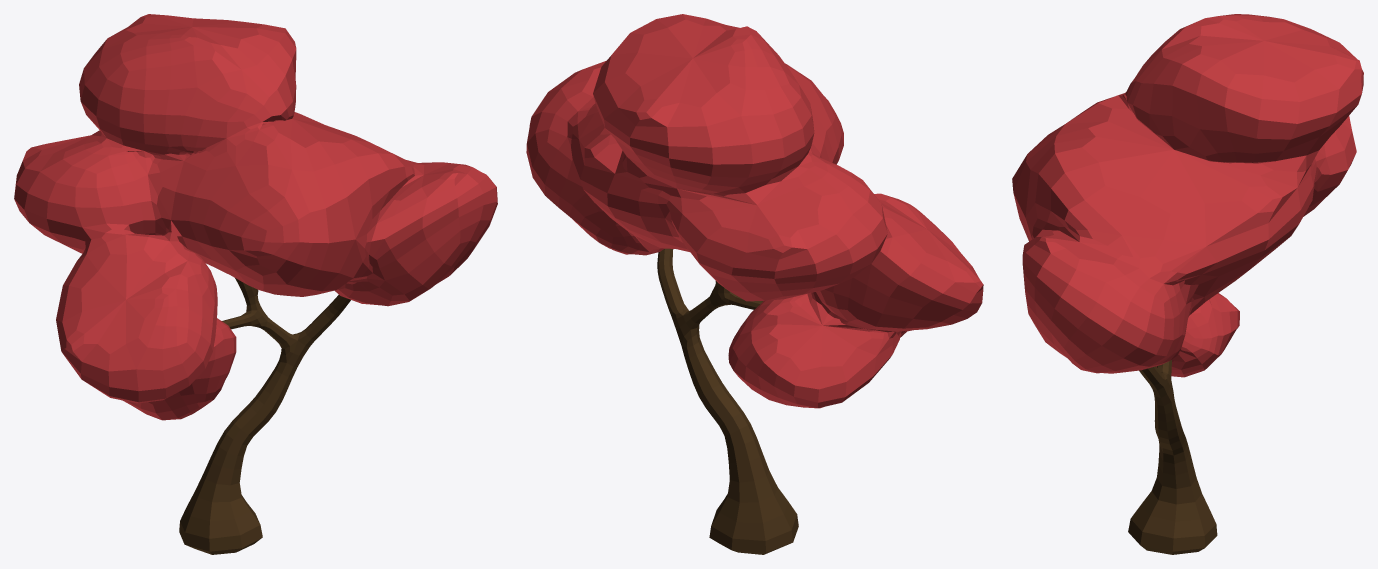
File: CheeryTree.fbx
3 views of the same model, side by side, from view 1: azimuth 30°, elevation 25°; view 2: azimuth 150°, elevation 25°; view 3: azimuth 270°, elevation 25° (orthographic). The views are drawn at different scales.
Visible parts, largest first — view 1: CherryTree; view 2: CherryTree; view 3: CherryTree.
Part boxes in pixels (<box>): CherryTree: <box>14,14,497,554</box>; CherryTree: <box>526,14,983,554</box>; CherryTree: <box>1012,14,1363,554</box>.
Bounding box in the file's own units: 1143 × 1275 × 780.
